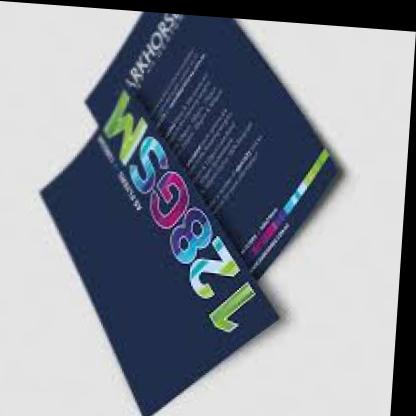Paper: (0, 1, 399, 416)
